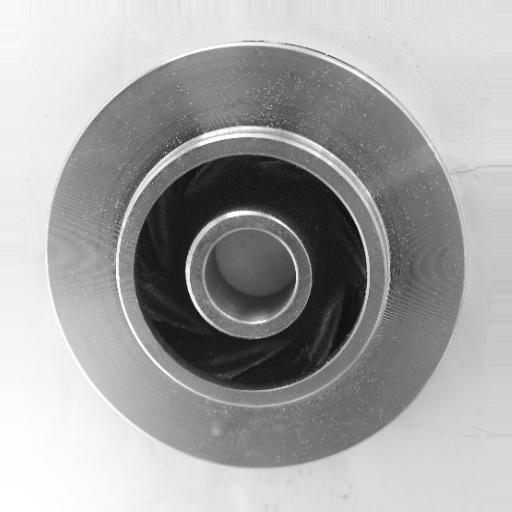polished_casting: (47, 40, 469, 473)
